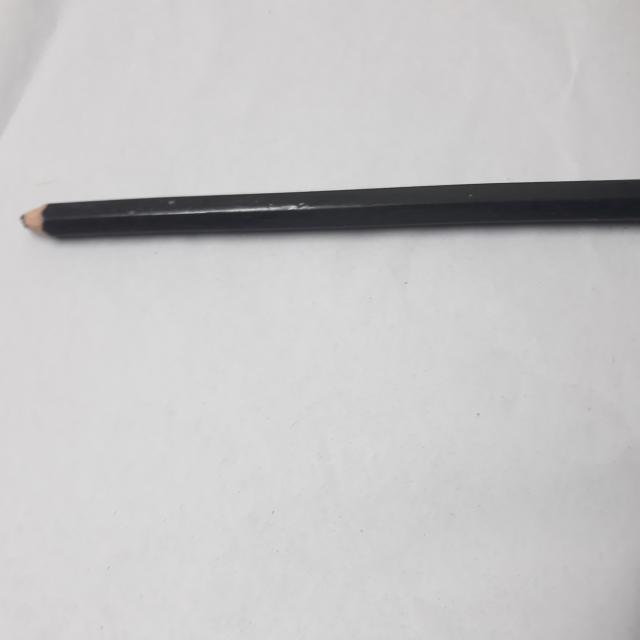pencil: (17, 170, 640, 250)
